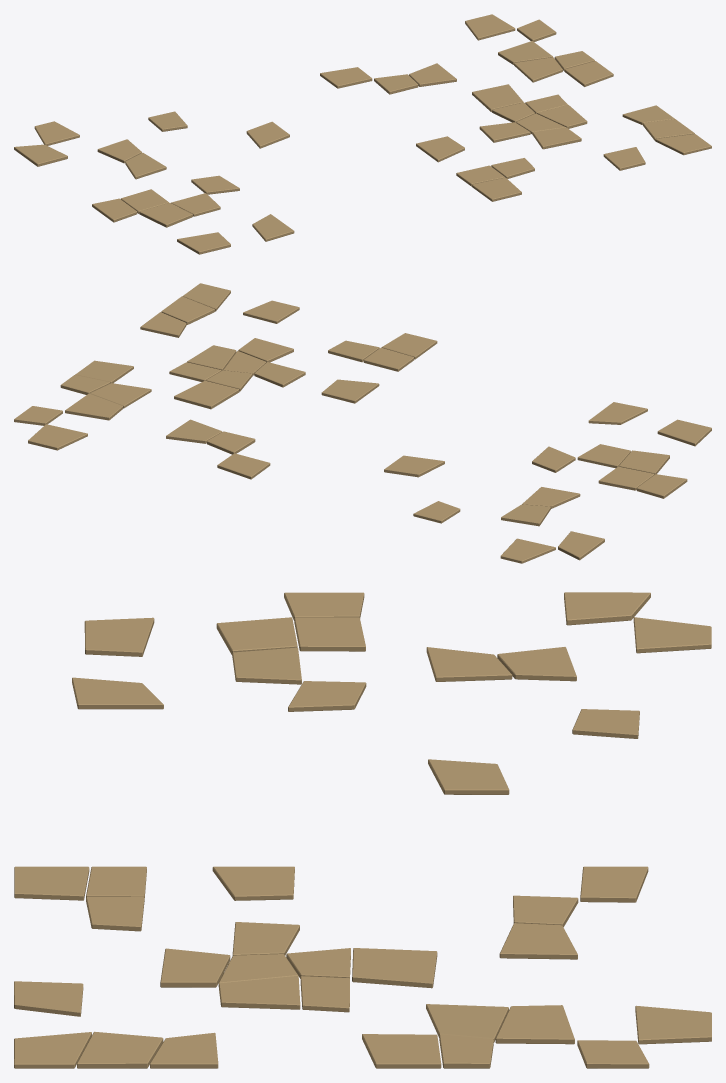
Rendered from Floor1_ArenaStoneDark.fbx.
The picture shows the model from 3 angles, top to bottom: view 1: azimuth 30°, elevation 25°; view 2: azimuth 150°, elevation 25°; view 3: azimuth 270°, elevation 25°; orthographic projection. The views are drawn at different scales.
Visible parts, largest first — view 1: Arena0-1_0_4.001; view 2: Arena0-1_0_4.001; view 3: Arena0-1_0_4.001.
Boxes of the visible parts, x1,y1,x2,y2 form: Arena0-1_0_4.001: (14,14,711,254); Arena0-1_0_4.001: (14,283,711,563); Arena0-1_0_4.001: (14,592,711,1068).
Bounding box in the file's own units: 14979 × 88.5 × 9378.
